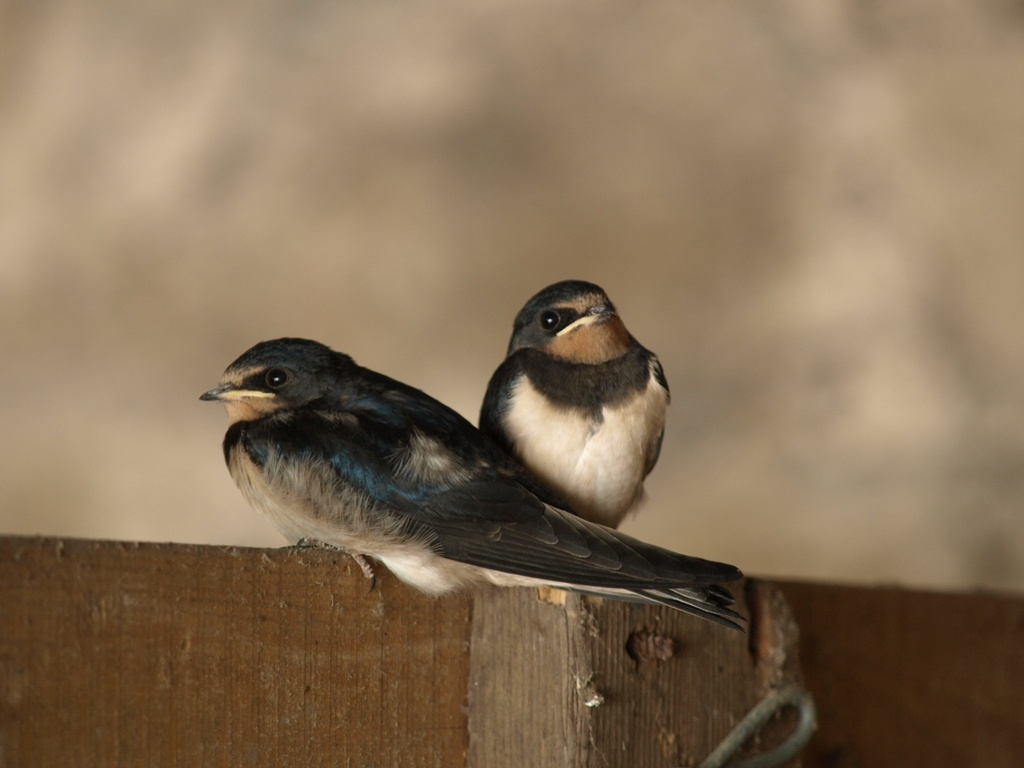Bird: (197, 336, 747, 634), (475, 280, 672, 530)
